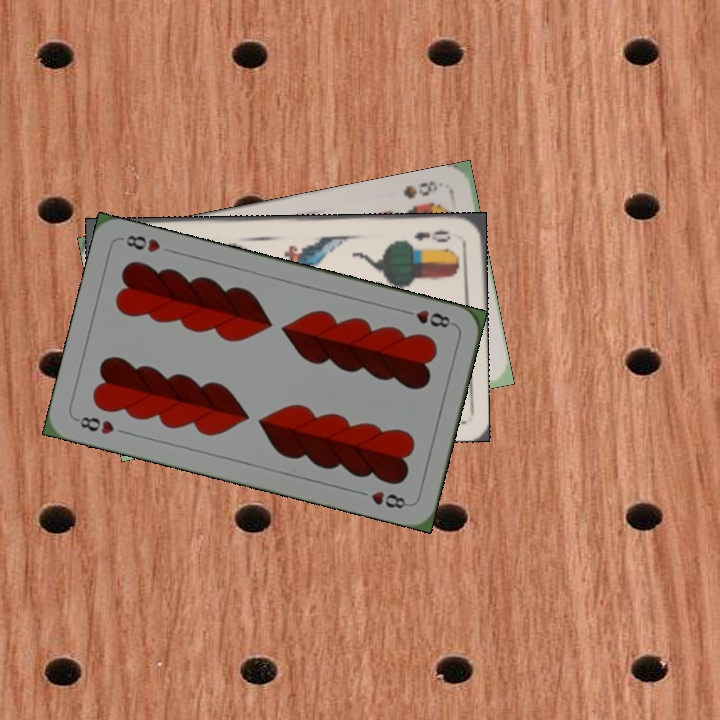EO: (410, 226, 453, 245)
H8: (398, 305, 457, 331), (71, 412, 117, 437)
S8: (399, 177, 441, 202)
